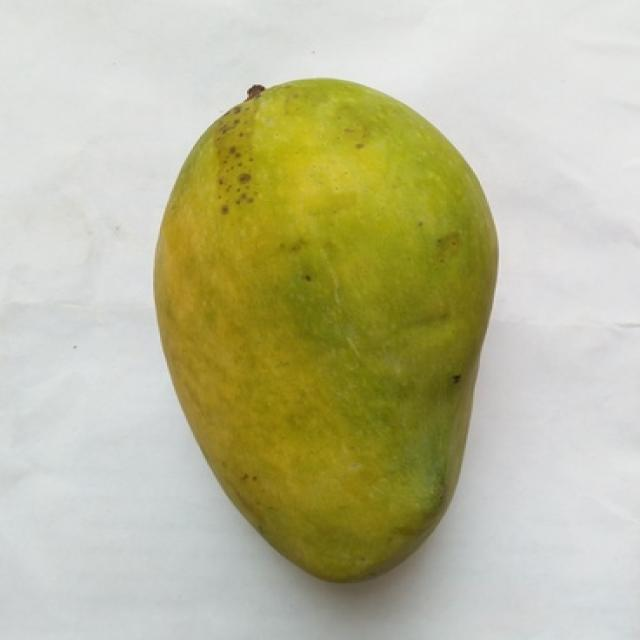Mango: (155, 78, 494, 580)
